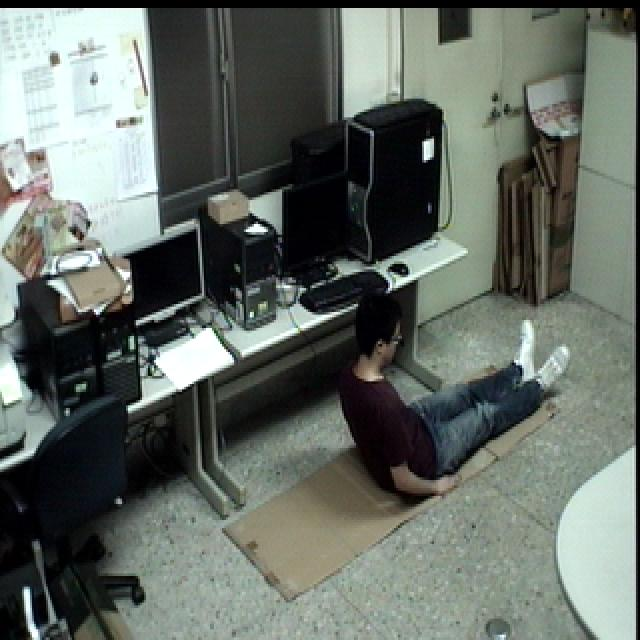sit: (331, 272, 577, 508)
